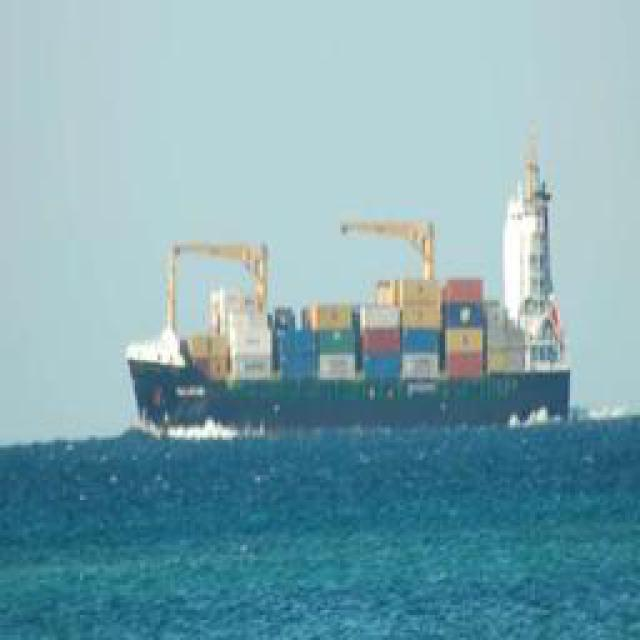Ship: (115, 210, 573, 435)
